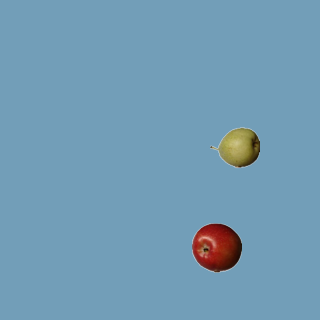Apple Braeburn: (191, 222, 241, 272)
Pear: (209, 122, 259, 172)
